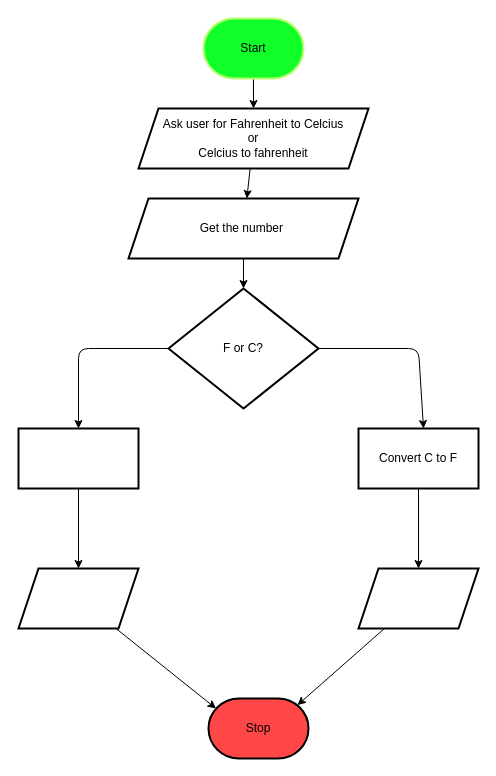
This 496x776 diagram has some shape labels left out. The box of each missing label's shape, as (x1, y1, x2, y2) in pixels:
Convert F to C: (17, 427, 139, 489)
Print C: (17, 567, 139, 629)
Print F: (357, 567, 479, 629)
